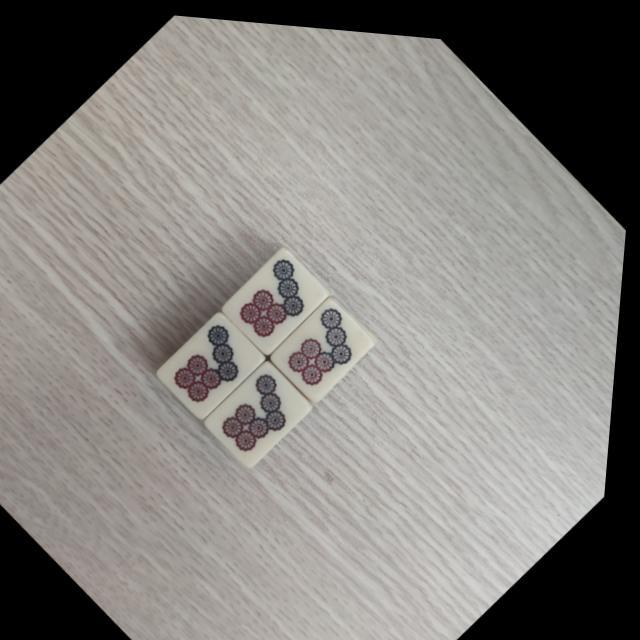sd7: (215, 359, 316, 464), (166, 310, 267, 414), (230, 244, 331, 348), (280, 292, 378, 396)
